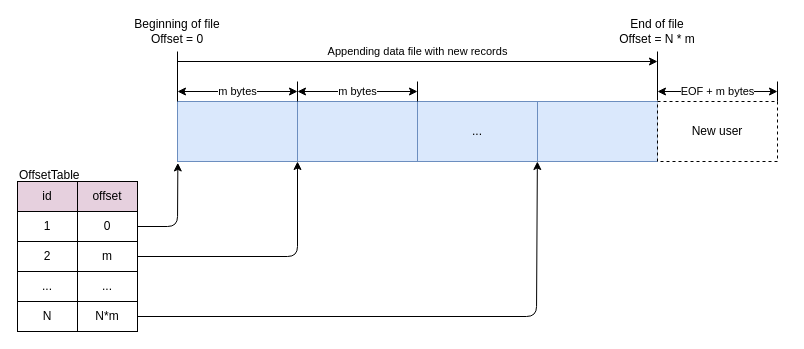
This 804x349 diagram has some shape labels left out. The shapes that lost their labels are listed below. From the top down, each one's box as (x1, y1, x2, y2) in pixels, then its label:
(176, 100, 298, 162): User Record #1
(296, 100, 418, 162): User Record #2
(536, 100, 658, 162): User Record N
